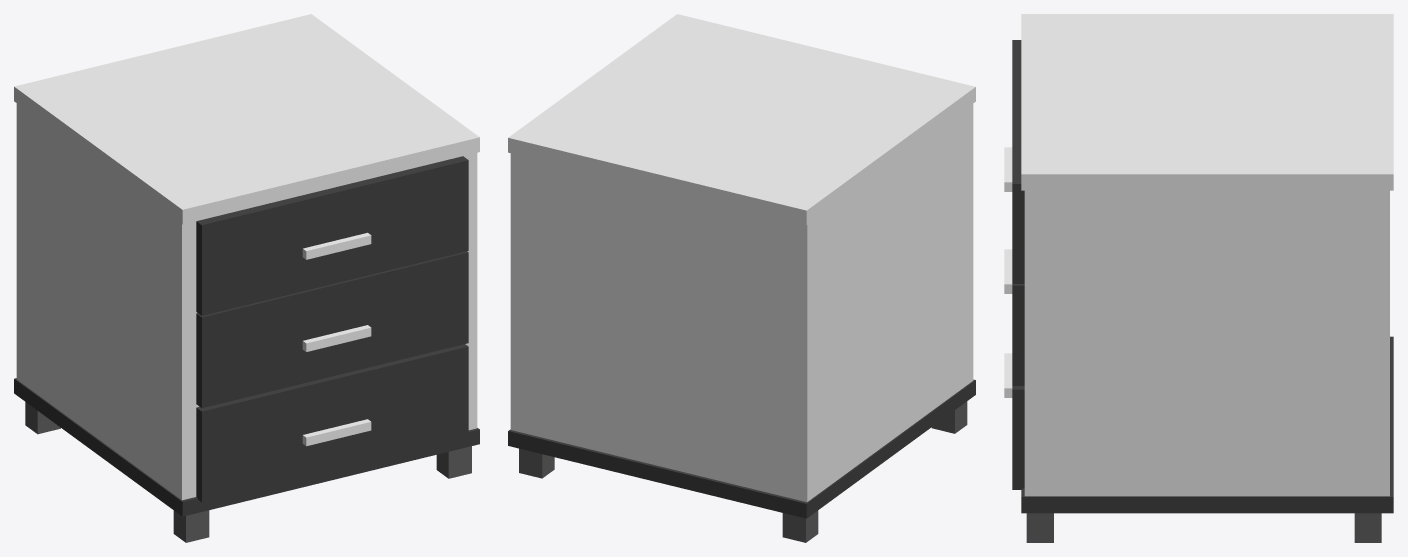
File: shelf_073.glb
3 views of the same model, side by side, from view 1: azimuth 30°, elevation 25°; view 2: azimuth 150°, elevation 25°; view 3: azimuth 270°, elevation 25° (orthographic). The views are drawn at different scales.
Visible parts, largest first — view 1: shelf_073; view 2: shelf_073; view 3: shelf_073.
Part boxes in pixels (box(x1,y1,x2,y2)): shelf_073: box(14, 14, 479, 542); shelf_073: box(508, 14, 975, 542); shelf_073: box(1004, 14, 1393, 542).
Bounding box in the file's own units: 0.5383 × 0.5819 × 0.5522.
Materials: 1 (1 with a texture image).
